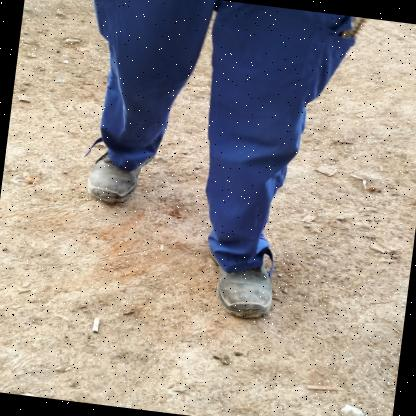bota: (197, 245, 284, 321), (71, 144, 150, 206)
